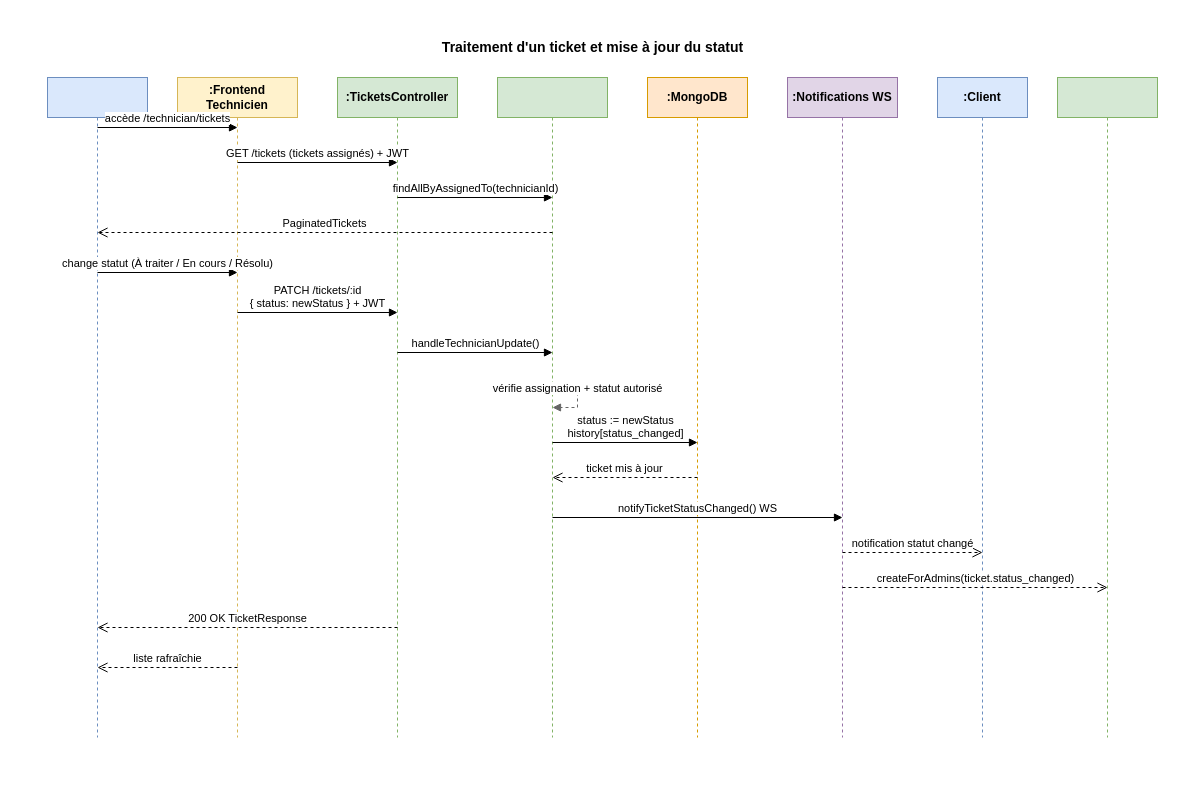
Some shapes in this 1184 by 794 pixel diagram are drawn without their labels. The box of each missing label's shape, as (x1, y1, x2, y2) in pixels:
:Administrateur: (1056, 76, 1158, 738)
:Technicien: (46, 76, 148, 738)
:TicketsService: (496, 76, 608, 738)
